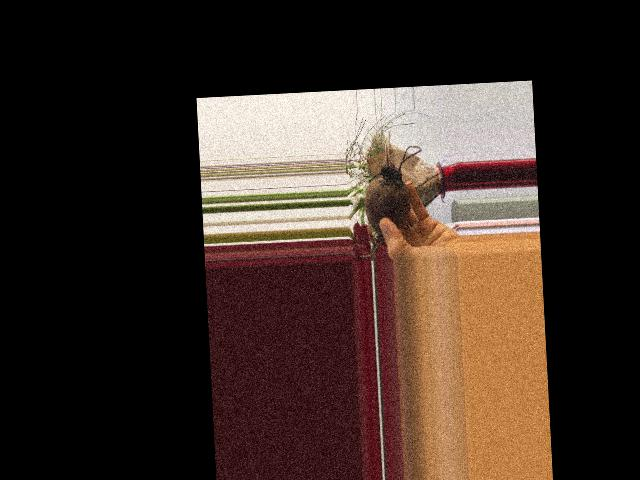beet: (354, 145, 427, 257)
